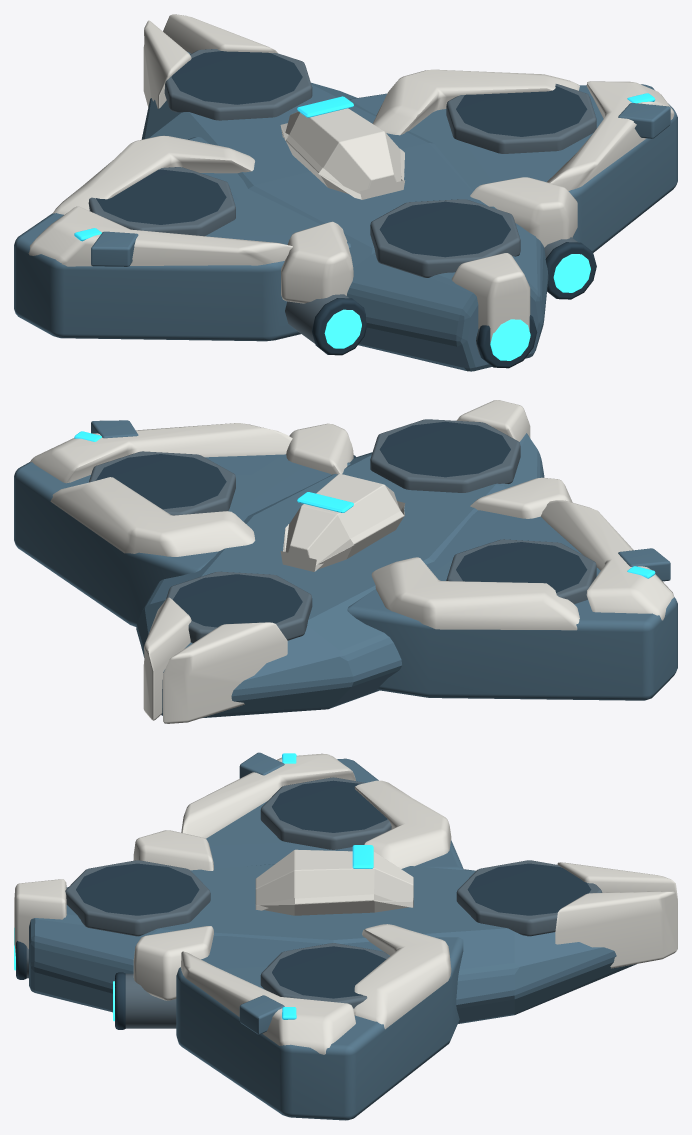
Rendered from cruiser.glb.
3 renders of one model, top to bottom at view 1: azimuth 30°, elevation 25°; view 2: azimuth 150°, elevation 25°; view 3: azimuth 270°, elevation 25°, orthographic. The views are drawn at different scales.
Visible parts, largest first — view 1: HullArmor, Engine01Mesh, Engine03Mesh, Engine02Mesh; view 2: HullArmor; view 3: HullArmor, Engine03Mesh.
Part boxes in pixels (x1,y1,x2,y2): HullArmor: [14, 14, 677, 371]; Engine01Mesh: [285, 294, 366, 355]; Engine03Mesh: [544, 237, 596, 299]; Engine02Mesh: [476, 315, 537, 368]; HullArmor: [14, 400, 677, 723]; HullArmor: [14, 752, 677, 1120]; Engine03Mesh: [113, 972, 176, 1029].
Bounding box in the file's own units: 6.58 × 1.39 × 6.3.
